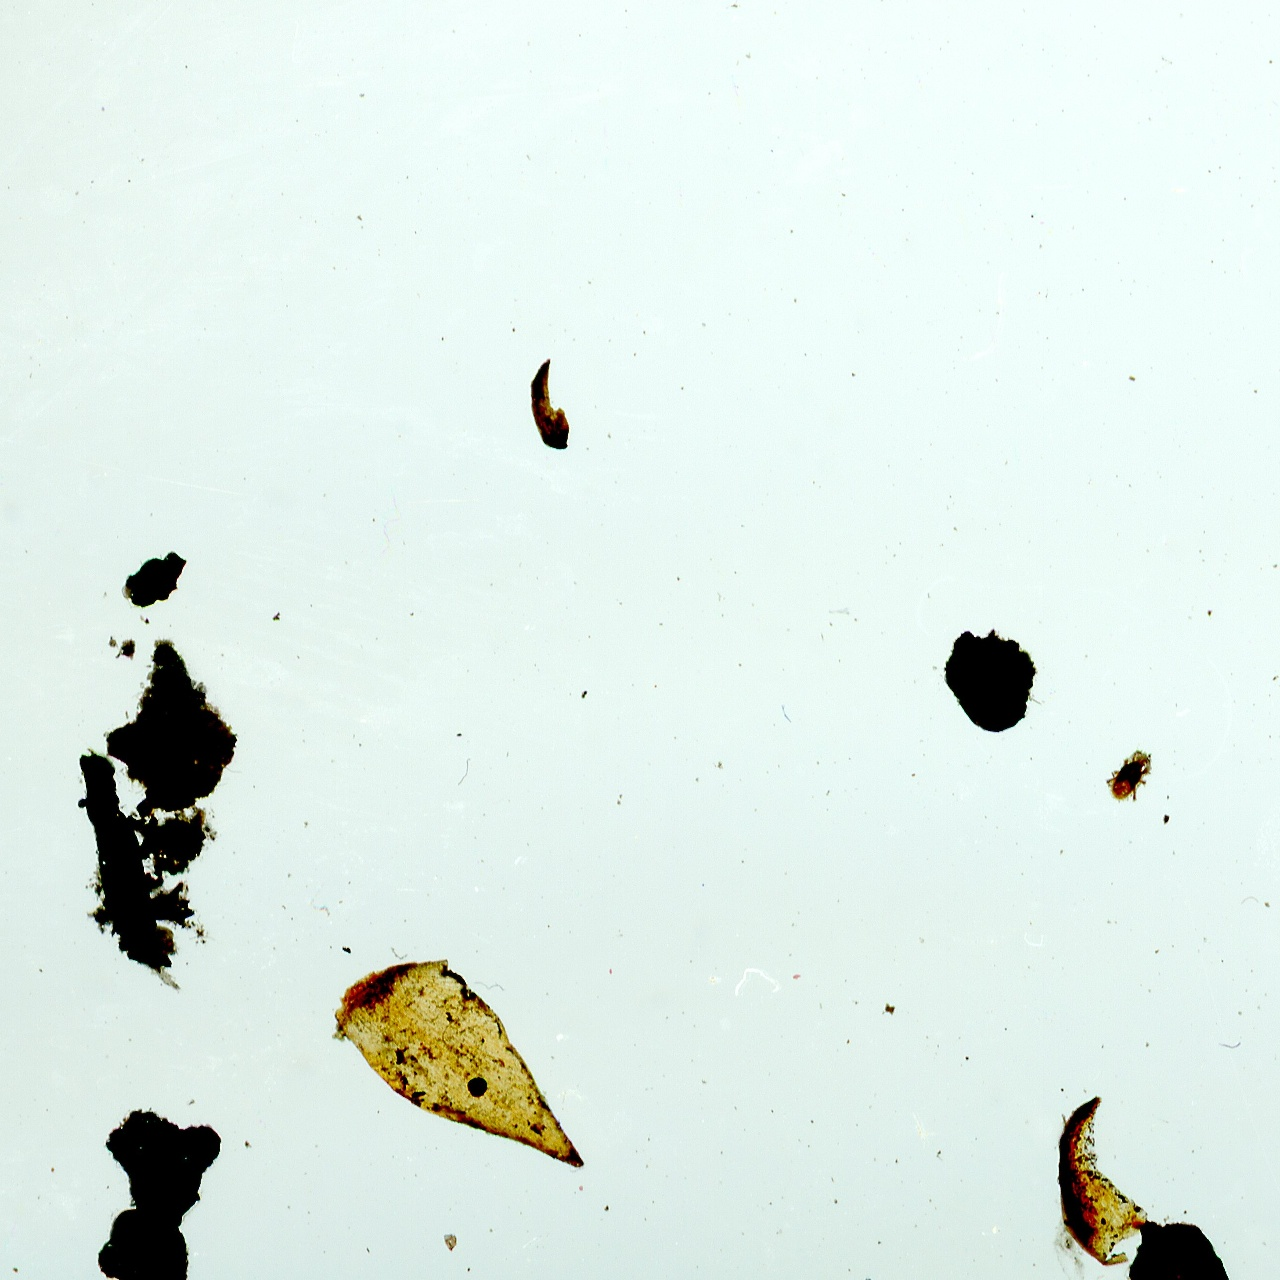arthropod: (1093, 733, 1168, 817)
